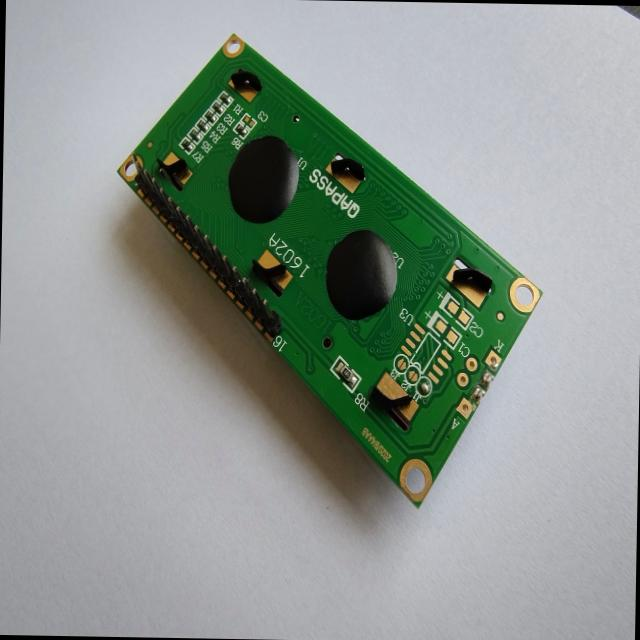lcd: (109, 29, 548, 512)
